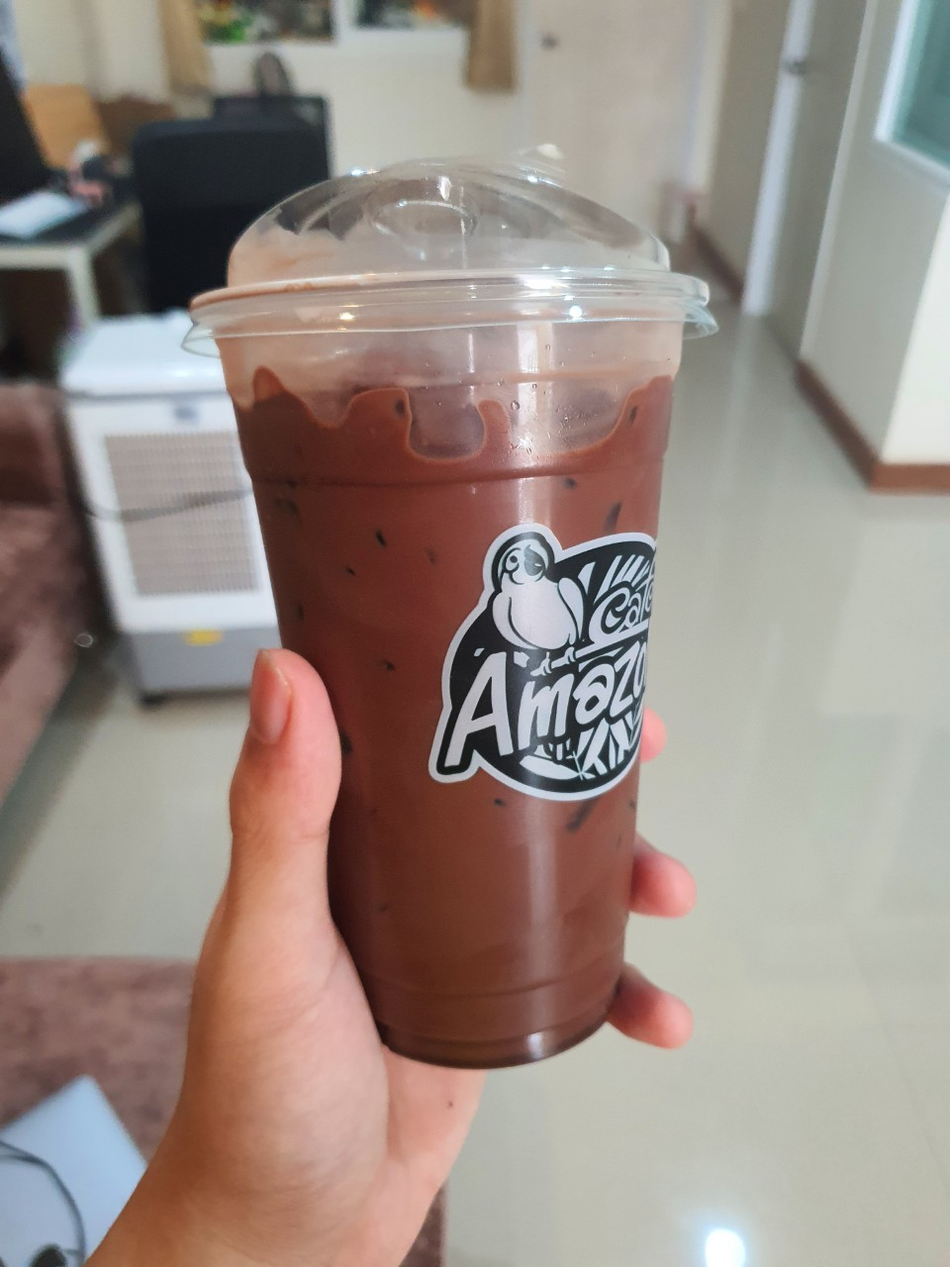plastic: (178, 143, 746, 1081)
